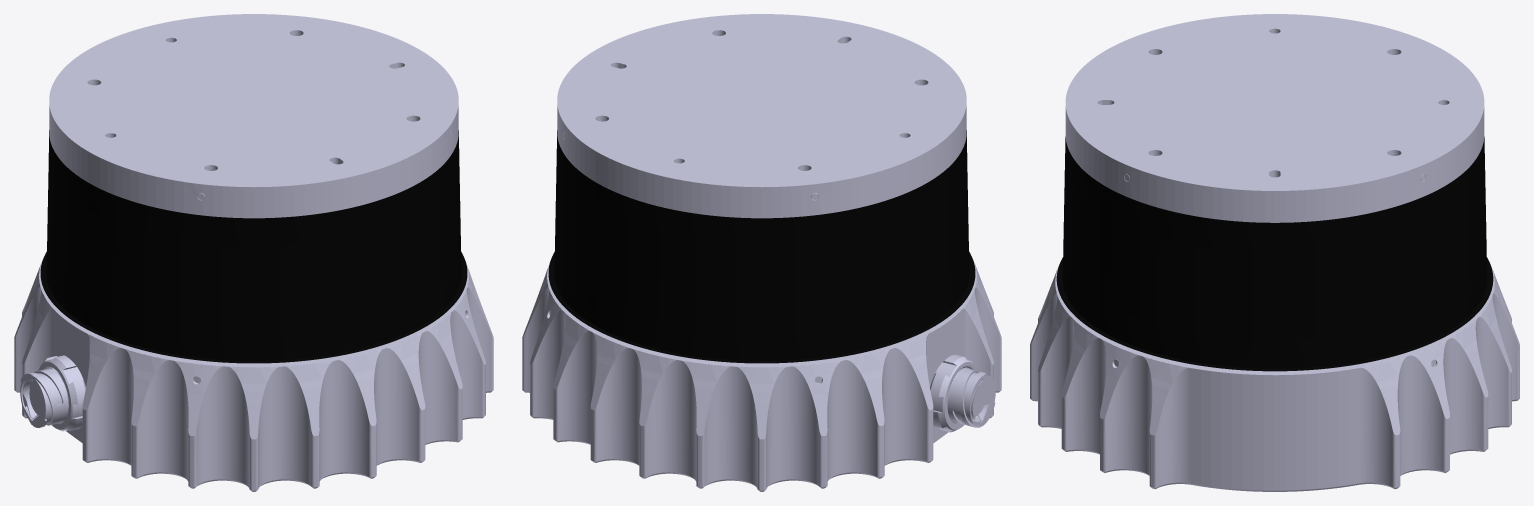
File: os1_lidar.dae
The picture shows the model from 3 angles, left to right: view 1: azimuth 30°, elevation 25°; view 2: azimuth 150°, elevation 25°; view 3: azimuth 270°, elevation 25°; orthographic projection. The views are drawn at different scales.
Visible parts, largest first — view 1: node2, node1, node0; view 2: node2, node1, node0; view 3: node2, node1, node0.
Boxes of the visible parts, <box> form: node2: <box>49,14,458,218</box>; node1: <box>40,130,467,363</box>; node0: <box>14,258,493,491</box>; node2: <box>557,14,966,218</box>; node1: <box>548,130,975,363</box>; node0: <box>522,258,1001,491</box>; node2: <box>1065,14,1484,222</box>; node1: <box>1056,137,1493,371</box>; node0: <box>1030,266,1519,491</box>.
Bounding box in the file's own units: 0.0853 × 0.087 × 0.0584.
